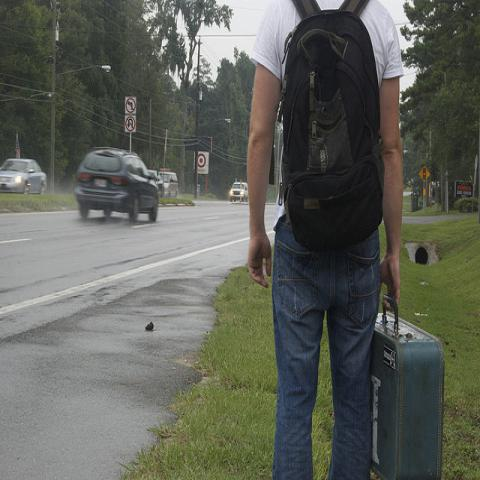car: (75, 150, 159, 222), (0, 158, 49, 195), (157, 168, 179, 198), (229, 182, 248, 202), (147, 170, 160, 186)
